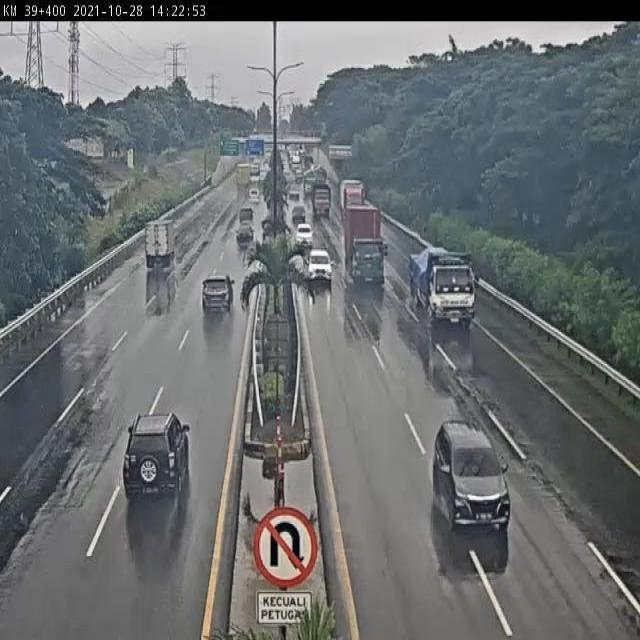truck-l-: (411, 249, 478, 327)
truck-s-: (142, 219, 176, 273)
truck-xl-: (344, 203, 386, 284)
